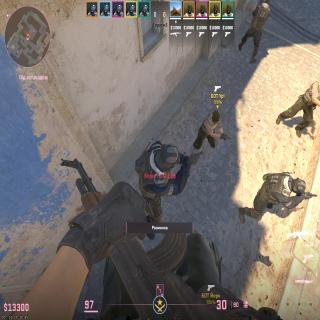CT-Body: (134, 140, 182, 219), (241, 170, 306, 218), (243, 0, 269, 57)
CT-Head: (160, 143, 180, 169), (292, 177, 305, 195), (263, 0, 269, 6)
T-Body: (278, 82, 320, 128), (193, 108, 221, 150)
T-Head: (212, 110, 220, 124)
